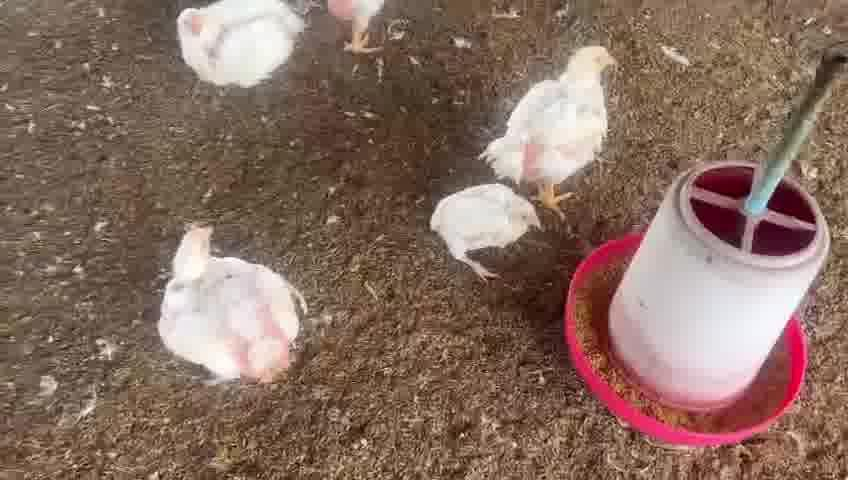AbNormal: (160, 227, 300, 384), (432, 183, 536, 275)
Normal: (500, 45, 621, 210), (176, 6, 301, 86), (326, 2, 390, 58)
